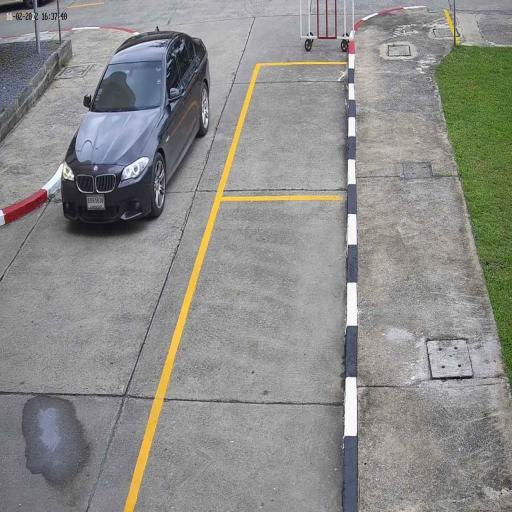car: (60, 27, 212, 228)
